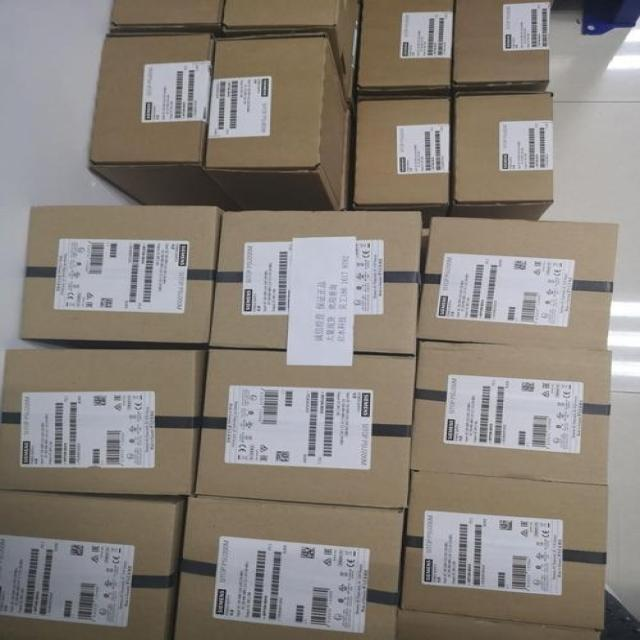box: (194, 348, 416, 507), (171, 496, 405, 636), (402, 470, 609, 628), (209, 207, 418, 352), (1, 350, 199, 496), (18, 204, 219, 346), (408, 342, 609, 483), (416, 218, 618, 352), (86, 31, 231, 211), (204, 35, 349, 210), (218, 1, 361, 95), (450, 92, 553, 221), (353, 98, 451, 214), (450, 1, 550, 97), (356, 3, 452, 98), (393, 608, 604, 638), (109, 1, 223, 31)
